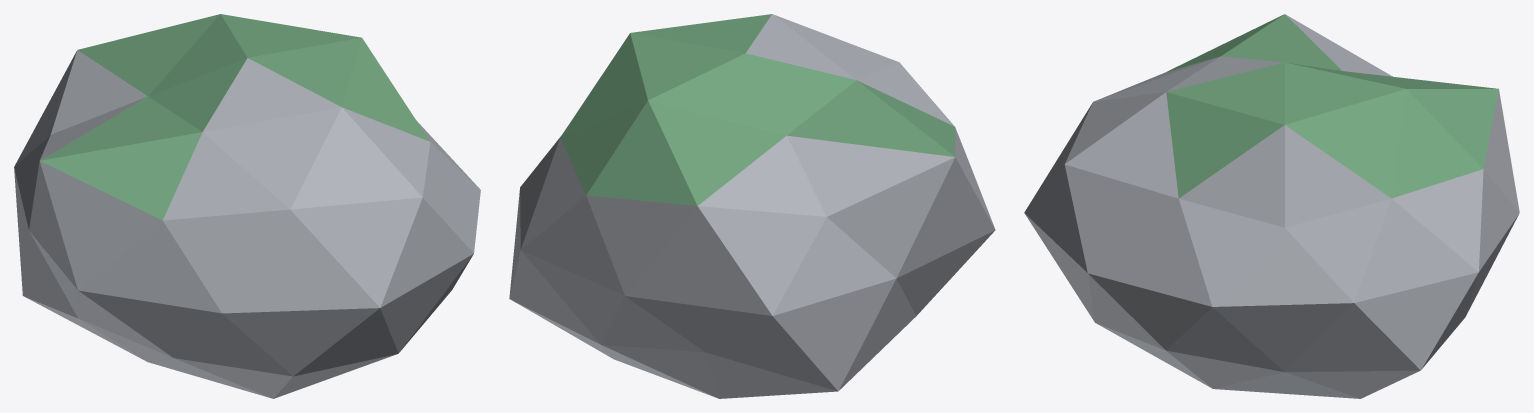
Rendered from Boulder_B.glb.
The picture shows the model from 3 angles, left to right: view 1: azimuth 30°, elevation 25°; view 2: azimuth 150°, elevation 25°; view 3: azimuth 270°, elevation 25°; orthographic projection. The views are drawn at different scales.
Visible parts, largest first — view 1: Boulder_B; view 2: Boulder_B; view 3: Boulder_B.
Boxes of the visible parts, left/top/right/bottom form: Boulder_B: left=14, top=14, right=480, bottom=398; Boulder_B: left=509, top=14, right=995, bottom=398; Boulder_B: left=1024, top=14, right=1519, bottom=398.
Bounding box in the file's own units: 3.32 × 2.43 × 3.58.
